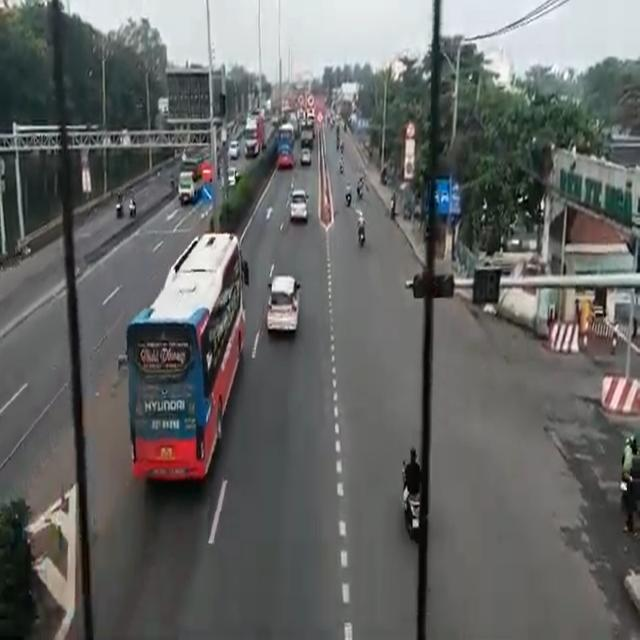bus: (126, 236, 240, 493), (276, 125, 295, 170)
car: (267, 275, 301, 336), (292, 190, 308, 224), (303, 145, 309, 167)
motorbike: (398, 449, 418, 534), (354, 208, 368, 245)
truck: (178, 163, 201, 215)
